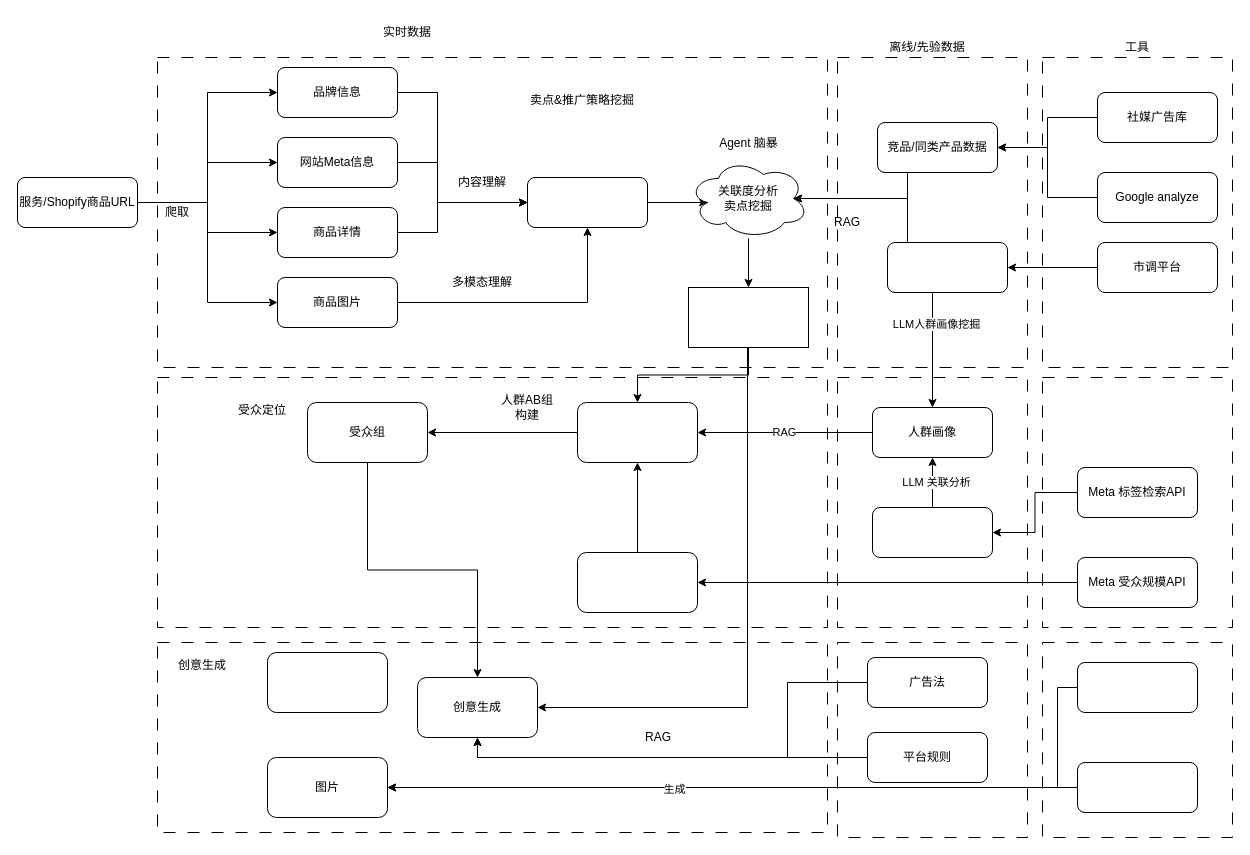
Image size: 1250x855. Some labels were removed from this diagram. The shapes that lost their labels are listed below. From the top down, each one's centre as x and y in pixels, then its label:
At point 587,202: "服务/商品介绍".
At point 947,267: "市调数据".
At point 748,317: "产品卖点&推广策略".
At point 637,432: "LLM 人群画像生成".
At point 932,532: "离线标签库".
At point 637,582: "受众规模控制".
At point 327,682: "文案".
At point 1137,687: "stable diffusion".
At point 1137,787: "DIT".
